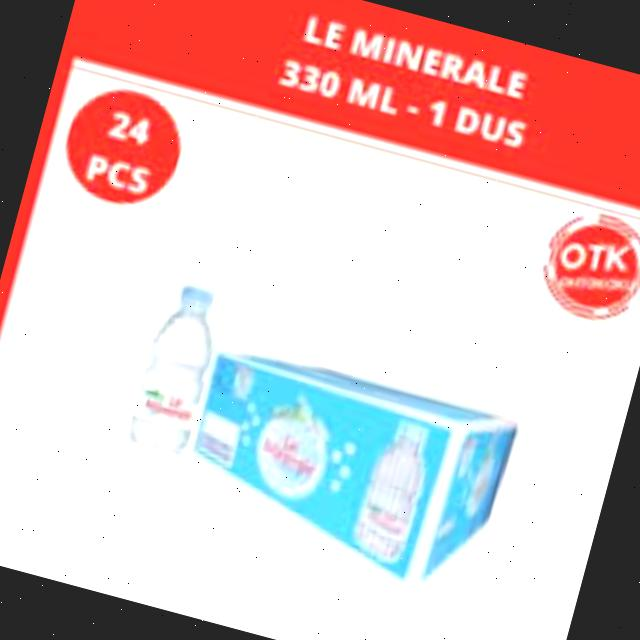trash: (117, 275, 234, 462)
